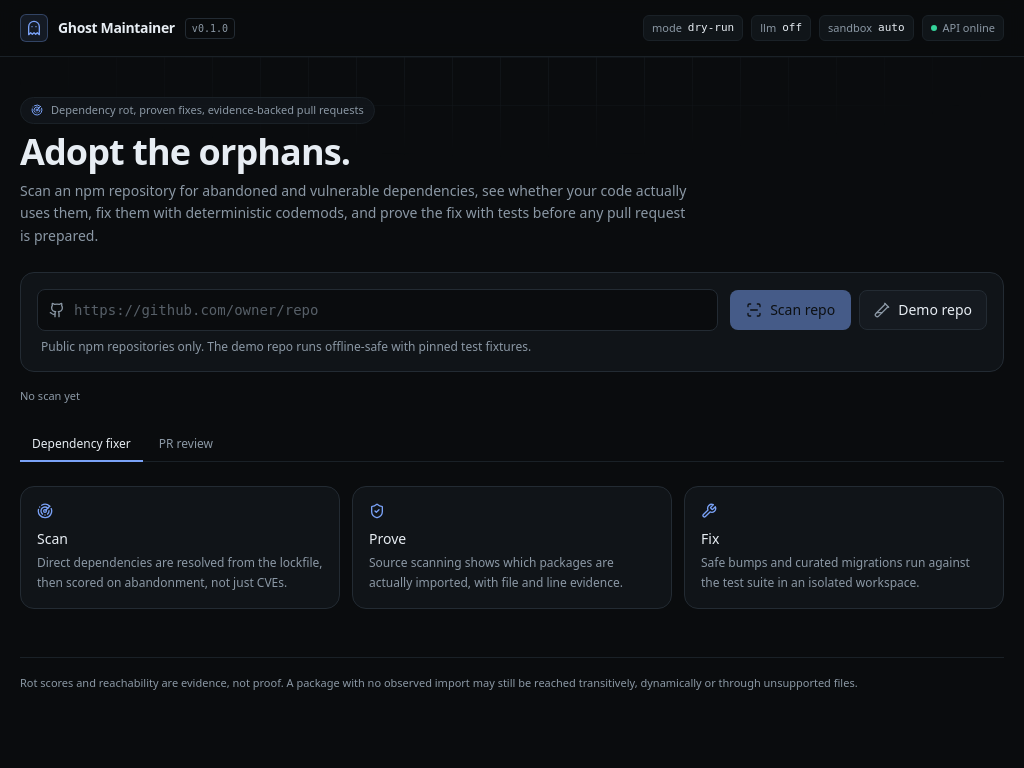
Test: review tab › renders findings grouped by agent
Click the tab "PR review" at (186, 445), box left=147, top=428, right=225, bottom=462
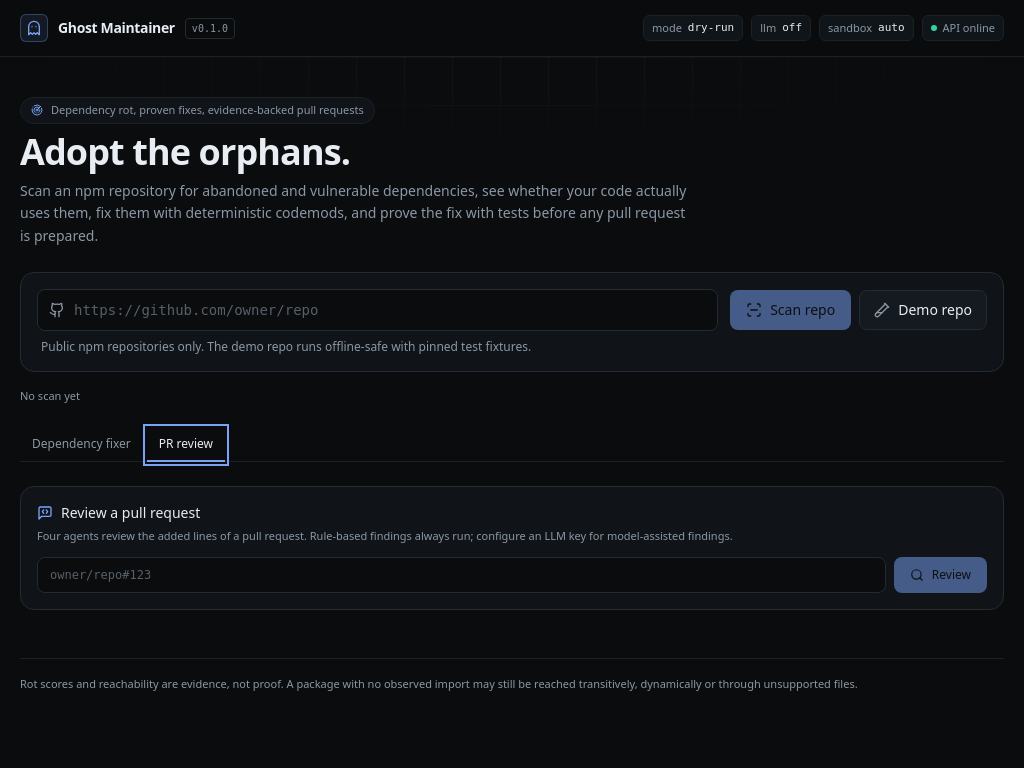
Type "expressjs/express#7561" into the field named "pull request reference" at (461, 575), box left=37, top=557, right=886, bottom=593
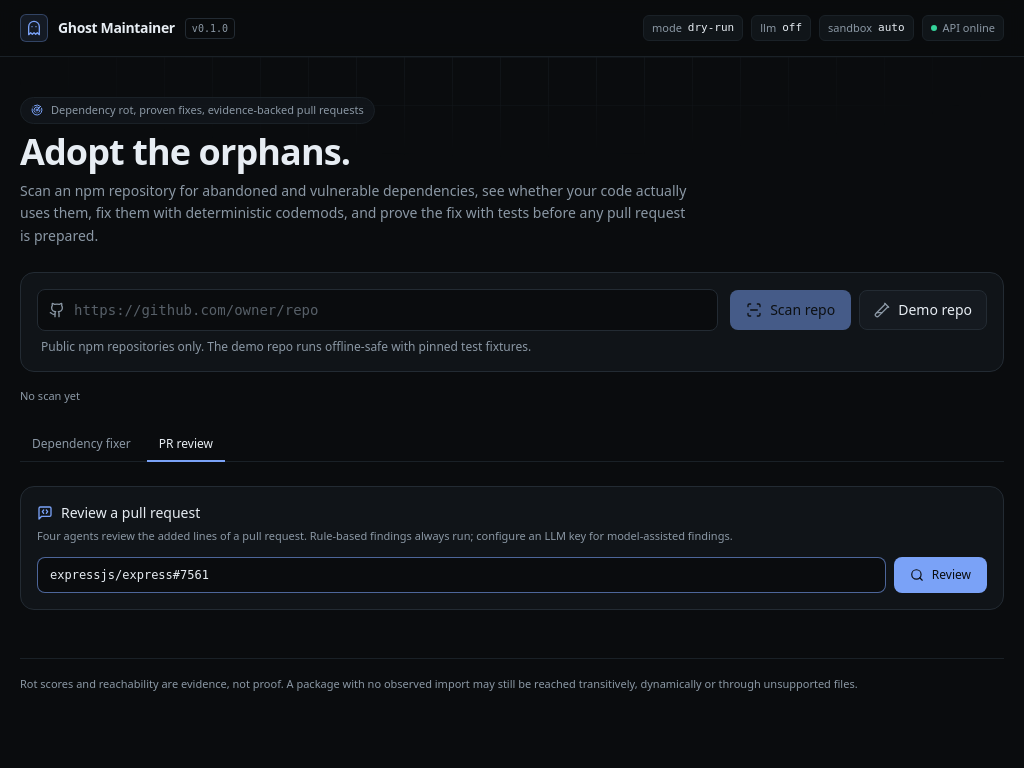
Click the button "Review" at (940, 575), box left=894, top=557, right=987, bottom=593
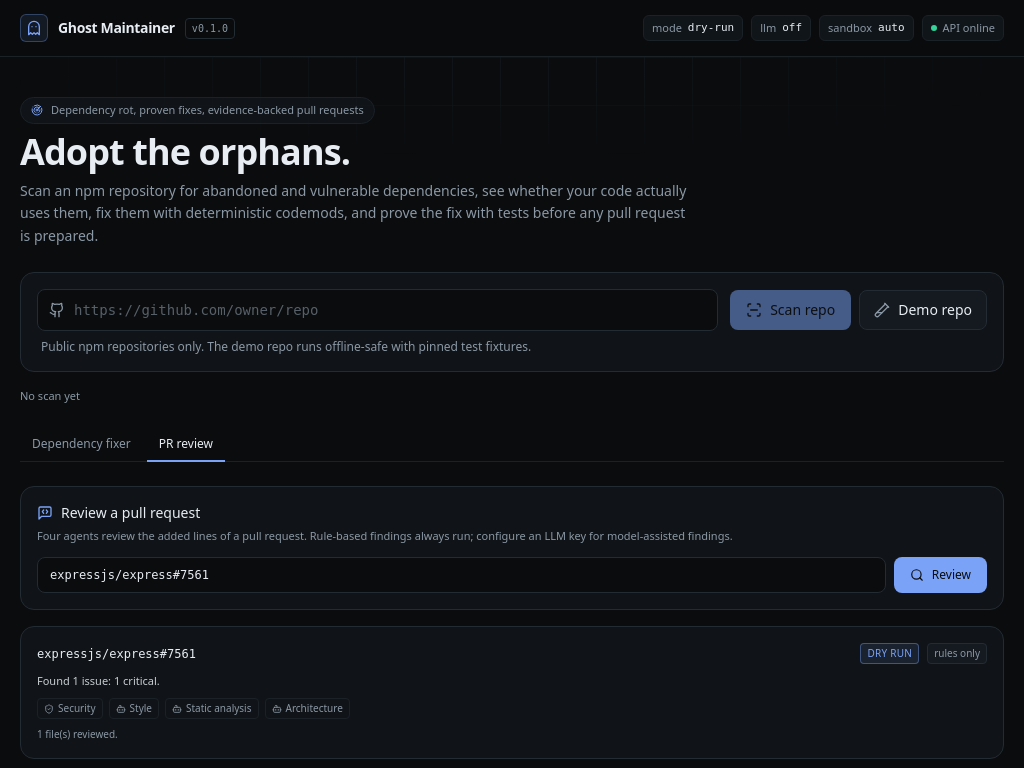
expect the text "Security" is shown: met, box left=37, top=698, right=102, bottom=719
expect the text "dry run" is shown: met, box left=860, top=643, right=919, bottom=664
expect the text "rules only" is shown: met, box left=927, top=643, right=987, bottom=664
